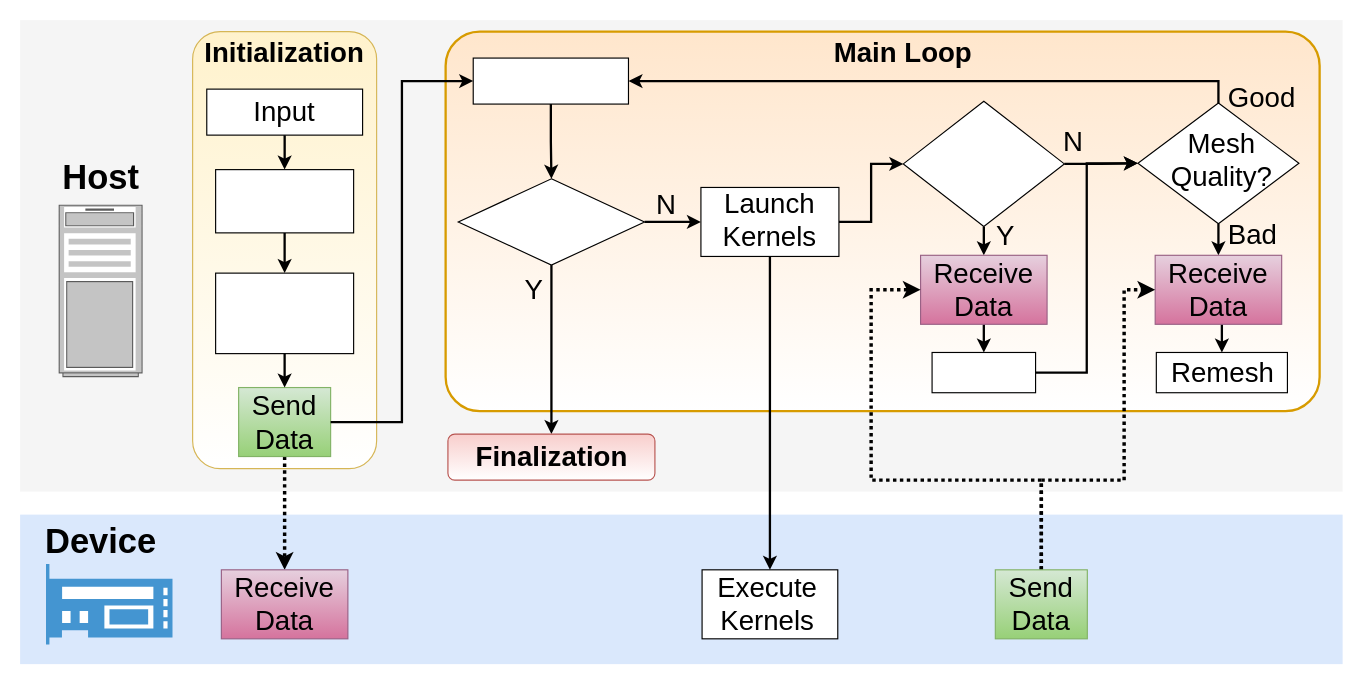
The diagram is 1362 pixels wide and 683 high, and some of its shapes have lost their labels. Each missing label, with the centre of its shape:
Memory Allocation: pixel 284 313
Meshing: pixel 284 200
Ourput: pixel 983 372
t n+1 = t n + dt: pixel 550 80
t n+1 > t final ?: pixel 551 221
Time to Ouput?: pixel 983 163
